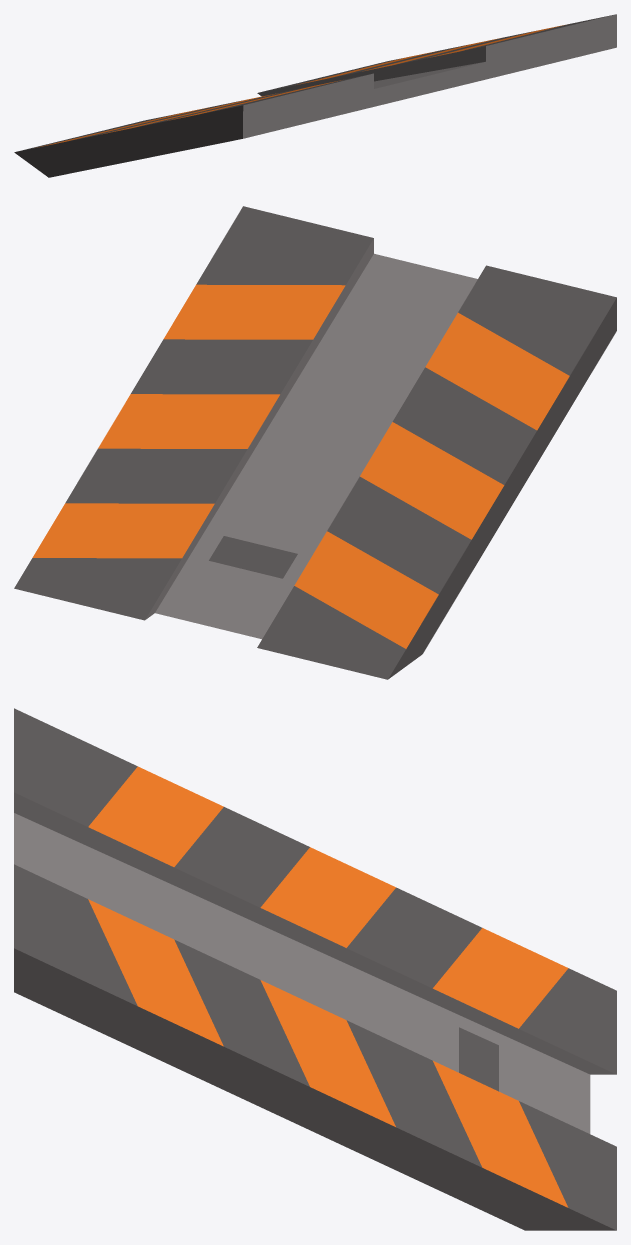
File: scifi_scifi-ramp.fbx
The picture shows the model from 3 angles, top to bottom: view 1: azimuth 30°, elevation 25°; view 2: azimuth 150°, elevation 25°; view 3: azimuth 270°, elevation 25°; orthographic projection. The views are drawn at different scales.
Parts seen in each view (by area): view 1: scifi_scifi_ramp; view 2: scifi_scifi_ramp; view 3: scifi_scifi_ramp.
Part boxes in pixels (bbox=[...]): scifi_scifi_ramp: bbox=[14, 14, 616, 177]; scifi_scifi_ramp: bbox=[14, 206, 616, 679]; scifi_scifi_ramp: bbox=[14, 708, 616, 1230].
Bounding box in the file's own units: 188 × 103 × 200.
